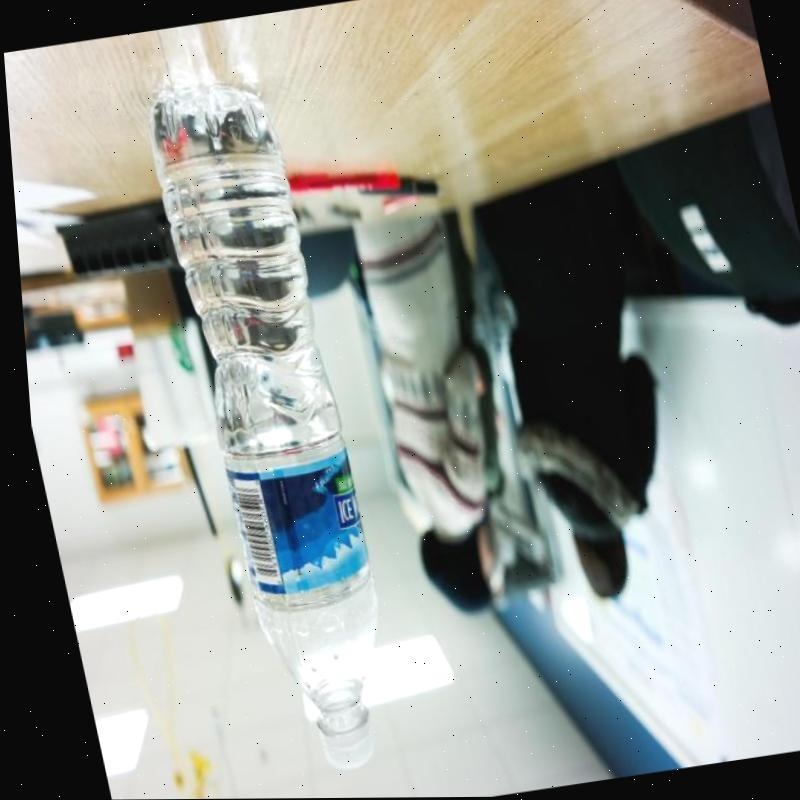botella: (137, 76, 402, 781)
